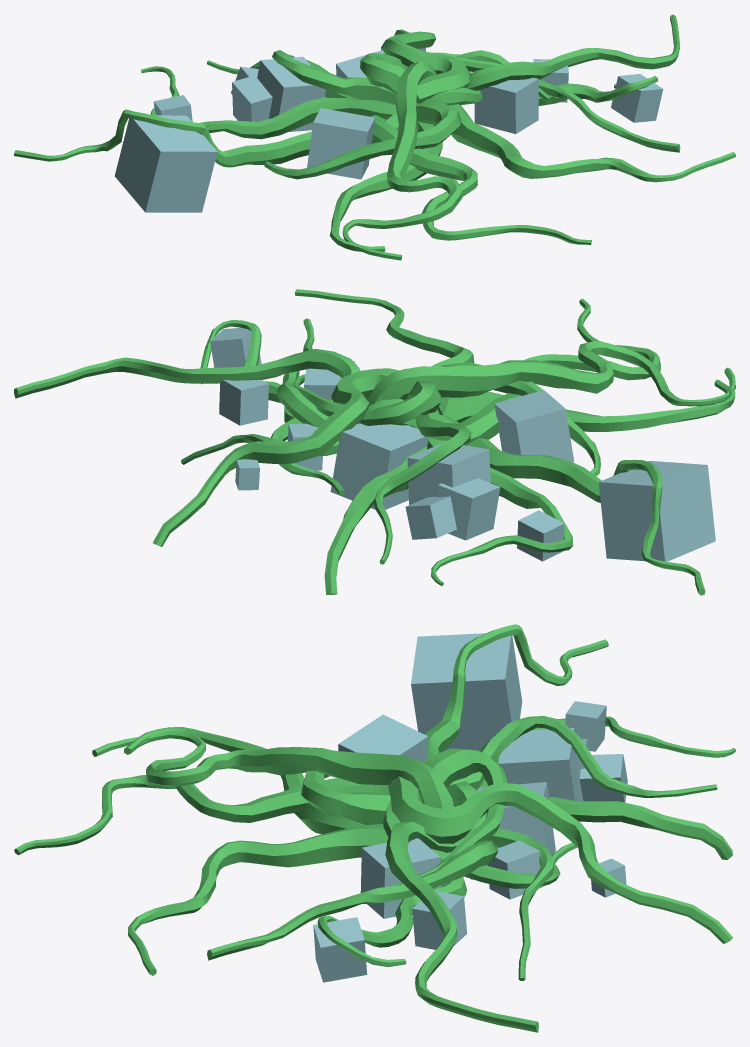
File: roots_set_C.fbx
3 views of the same model, one above another, from view 1: azimuth 30°, elevation 25°; view 2: azimuth 150°, elevation 25°; view 3: azimuth 270°, elevation 25° (orthographic). The views are drawn at different scales.
Visible parts, largest first — view 1: placeholders_cube_03, roots_set_C_F, roots_set_C_C, roots_set_C_G, roots_set_C_D, roots_set_C_P, roots_set_C_A, roots_set_C_H, placeholders_cube_11, roots_set_C_J, placeholders_cube_07, roots_set_C_M (+11 smaller); view 2: placeholders_cube_03, roots_set_C_F, roots_set_C_J, roots_set_C_A, roots_set_C_G, placeholders_cube_04, placeholders_cube_11, roots_set_C_E, roots_set_C_P, roots_set_C_D, roots_set_C_M, placeholders_cube_00 (+16 smaller); view 3: placeholders_cube_03, roots_set_C_F, roots_set_C_J, roots_set_C_C, roots_set_C_A, roots_set_C_D, roots_set_C_B, placeholders_cube_00, roots_set_C_G, roots_set_C_M, roots_set_C_N, roots_set_C_L (+14 smaller).
Boxes of the visible parts, box(x1,y1,x2,y2) form: placeholders_cube_03: box(114, 115, 217, 212); roots_set_C_F: box(342, 61, 462, 260); roots_set_C_C: box(448, 104, 735, 182); roots_set_C_G: box(14, 109, 398, 167); roots_set_C_D: box(371, 115, 591, 244); roots_set_C_P: box(141, 66, 396, 139); roots_set_C_A: box(382, 14, 680, 103); roots_set_C_H: box(264, 98, 461, 179); placeholders_cube_11: box(307, 108, 375, 179); roots_set_C_J: box(381, 29, 469, 103); placeholders_cube_07: box(474, 77, 538, 133); roots_set_C_M: box(207, 50, 396, 104); placeholders_cube_03: box(598, 461, 715, 561); roots_set_C_F: box(367, 341, 735, 406); roots_set_C_J: box(153, 368, 399, 546); roots_set_C_A: box(14, 349, 417, 428); roots_set_C_G: box(440, 414, 705, 595); placeholders_cube_04: box(330, 423, 429, 509); placeholders_cube_11: box(494, 390, 574, 462); roots_set_C_E: box(444, 379, 735, 431); roots_set_C_P: box(427, 415, 573, 585); roots_set_C_D: box(459, 298, 660, 445); roots_set_C_M: box(374, 409, 471, 564); placeholders_cube_00: box(407, 442, 490, 504); placeholders_cube_03: box(411, 633, 522, 751); roots_set_C_F: box(92, 731, 453, 808); roots_set_C_J: box(388, 776, 732, 943); roots_set_C_C: box(128, 824, 388, 975); roots_set_C_A: box(385, 781, 538, 1032); roots_set_C_D: box(14, 775, 389, 855); roots_set_C_B: box(207, 840, 498, 960); placeholders_cube_00: box(498, 728, 579, 801); roots_set_C_G: box(424, 624, 608, 758); roots_set_C_M: box(449, 716, 717, 797); roots_set_C_N: box(549, 797, 732, 859); roots_set_C_L: box(393, 748, 507, 885).
Size of the model in its own units: 911 by 138 by 717.
